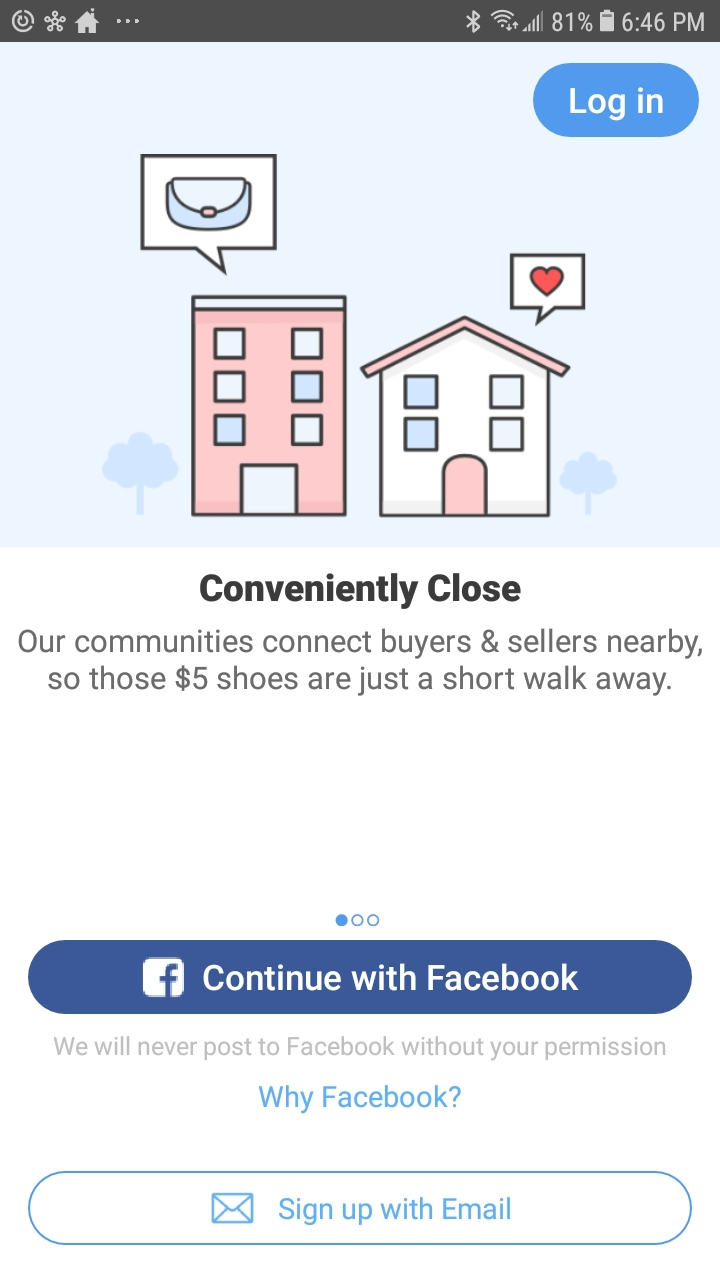Image: (1, 43, 720, 547)
PageIndicator: (335, 913, 380, 927)
Text: (18, 627, 703, 697), (54, 1035, 666, 1061), (199, 573, 522, 611), (259, 1084, 462, 1115)
TextButton: (29, 939, 693, 1015), (28, 1171, 693, 1246), (533, 63, 701, 139)
UpperTaskBar: (1, 1, 720, 43)
